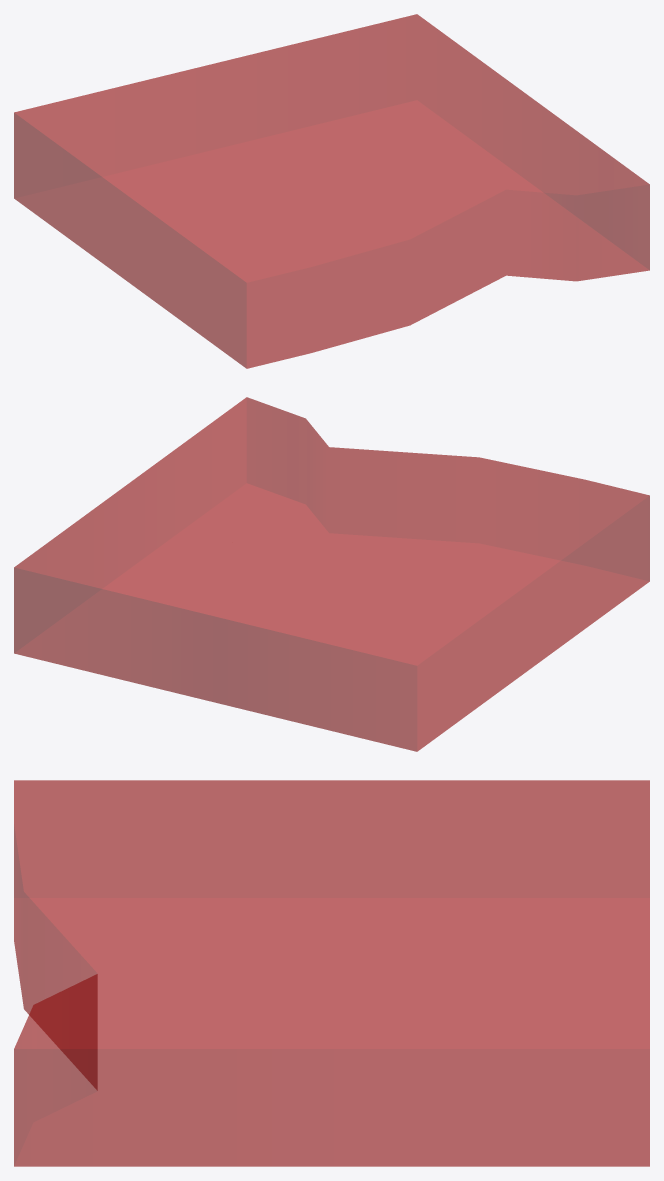
Rendered from SM_Env_Motorway_Middle_Destroyed_02_Collision.fbx.
3 renders of one model, top to bottom at view 1: azimuth 30°, elevation 25°; view 2: azimuth 150°, elevation 25°; view 3: azimuth 270°, elevation 25°, orthographic. The views are drawn at different scales.
Visible parts, largest first — view 1: SM_Env_Motorway_Middle_Destroyed_02_Collision; view 2: SM_Env_Motorway_Middle_Destroyed_02_Collision; view 3: SM_Env_Motorway_Middle_Destroyed_02_Collision.
Part boxes in pixels (x1,y1,x2,y2): SM_Env_Motorway_Middle_Destroyed_02_Collision: [14, 14, 649, 368]; SM_Env_Motorway_Middle_Destroyed_02_Collision: [14, 397, 649, 751]; SM_Env_Motorway_Middle_Destroyed_02_Collision: [14, 780, 649, 1166].
Bounding box in the file's own units: 500 × 102 × 500.
